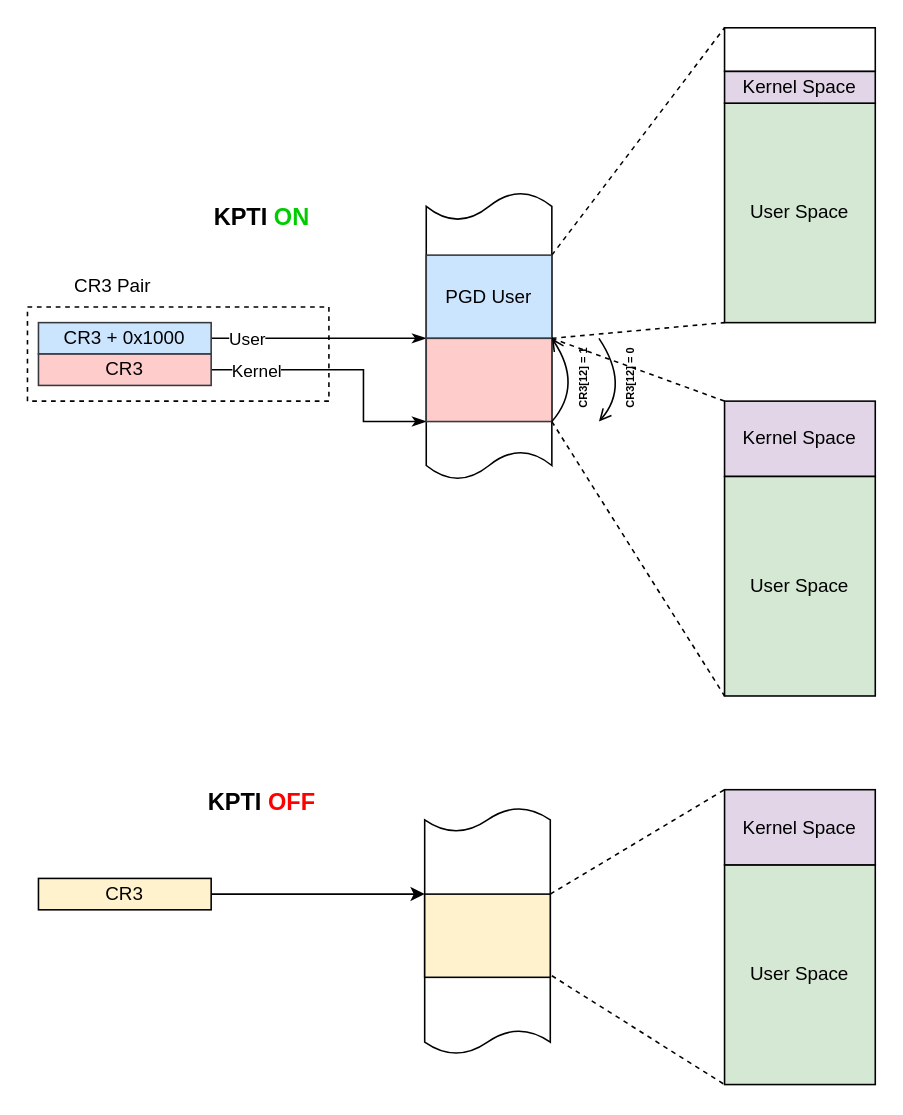
Image size: 903x1115. Some labels were removed from this diagram. The shapes that lost their labels are listed below. From the top down, each one's centre as x and y in pixels, then its label:
the point at 488,379: PGD Kernel
the point at 486,935: PGD
